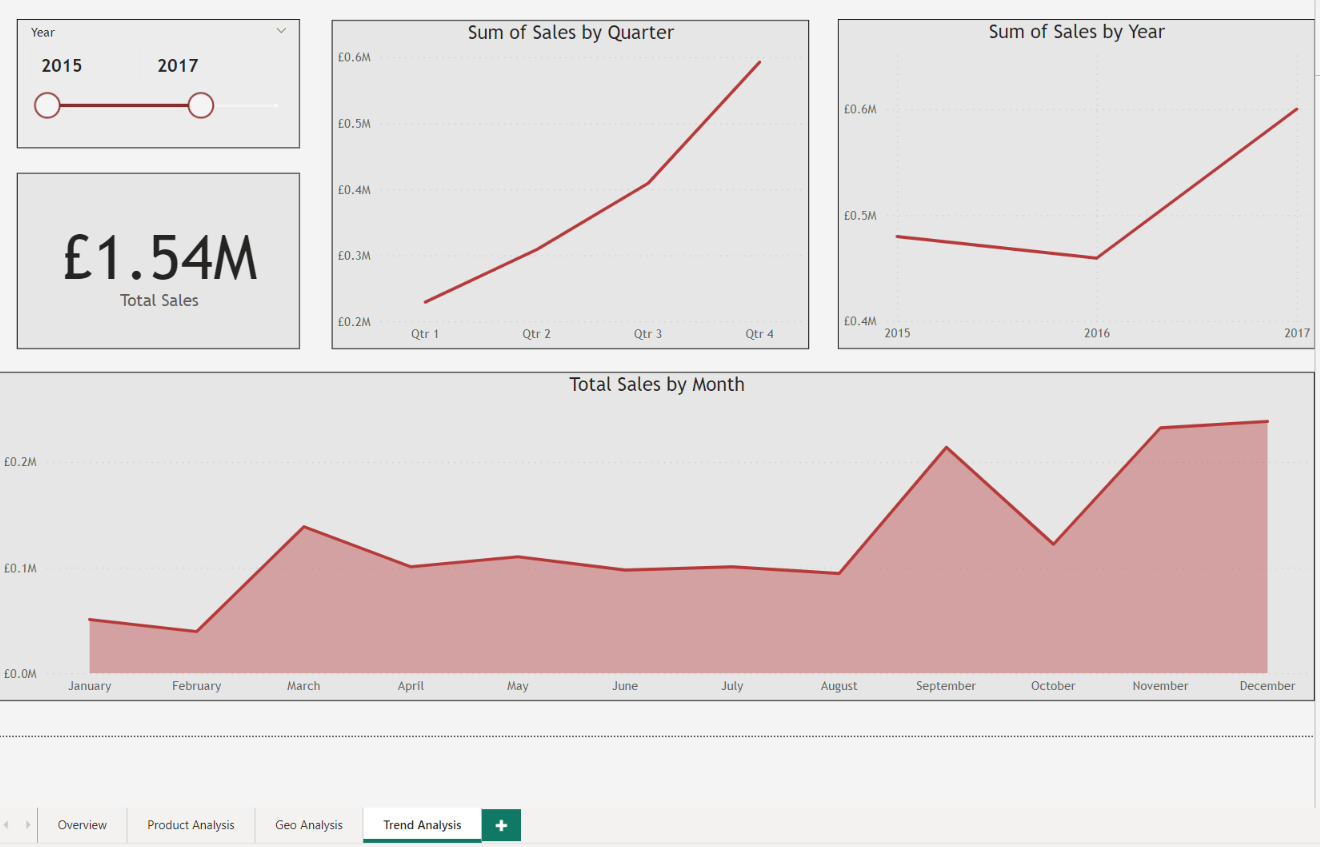

The dashboard page shown, as its layout file describes it:
{"tool":"powerbi","page":{"name":"Trend Analysis","canvas":[1280,720],"ordinal":3},"visuals":[{"type":"areaChart","fields":{"Category":["SuperstoreData.Order Date.Variation.Date Hierarchy.Month"],"Y":["Measures_Dim.Total Sales"]},"box":[0,366.5,1280.2,319.8],"z":0},{"type":"lineChart","fields":{"Category":["SuperstoreData.Order Date.Variation.Date Hierarchy.Quarter"],"Y":["Sum(SuperstoreData.Sales)"]},"box":[324.5,24.3,463.7,319.8],"z":1000},{"type":"lineChart","fields":{"Y":["Sum(SuperstoreData.Sales)"],"Category":["SuperstoreData.Order Date.Variation.Date Hierarchy.Year"]},"box":[816.3,23.3,463.7,320.8],"z":2000},{"type":"card","fields":{"Values":["Measures_Dim.Total Sales"]},"box":[18.5,173,275.1,171.1],"z":3000},{"type":"slicer","fields":{"Values":["SuperstoreData.Order Date.Variation.Date Hierarchy.Year"]},"box":[18.5,23.3,275.1,125.4],"z":4000}]}

Visuals, with their boxes in screenshot pixels (x1, y1, x2, y2):
areaChart - SuperstoreData.Order Date.Variation.Date Hierarchy.Month x Measures_Dim.Total Sales: [x1=7, y1=369, x2=1309, y2=695]
lineChart - SuperstoreData.Order Date.Variation.Date Hierarchy.Quarter x Sum(SuperstoreData.Sales): [x1=337, y1=21, x2=808, y2=347]
lineChart - Sum(SuperstoreData.Sales) x SuperstoreData.Order Date.Variation.Date Hierarchy.Year: [x1=837, y1=20, x2=1309, y2=347]
card - Measures_Dim.Total Sales: [x1=26, y1=172, x2=305, y2=347]
slicer - SuperstoreData.Order Date.Variation.Date Hierarchy.Year: [x1=26, y1=20, x2=305, y2=148]
